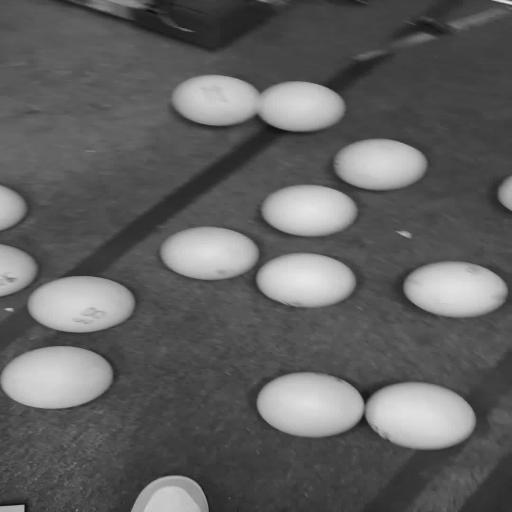fuel: (366, 383, 475, 450), (0, 346, 113, 409), (257, 373, 364, 437), (28, 276, 136, 332), (403, 262, 508, 317), (256, 254, 356, 307), (160, 227, 259, 280), (261, 185, 357, 237), (334, 139, 428, 191), (172, 75, 259, 126), (258, 82, 346, 132), (0, 244, 38, 297), (0, 185, 27, 230), (497, 175, 512, 211)
